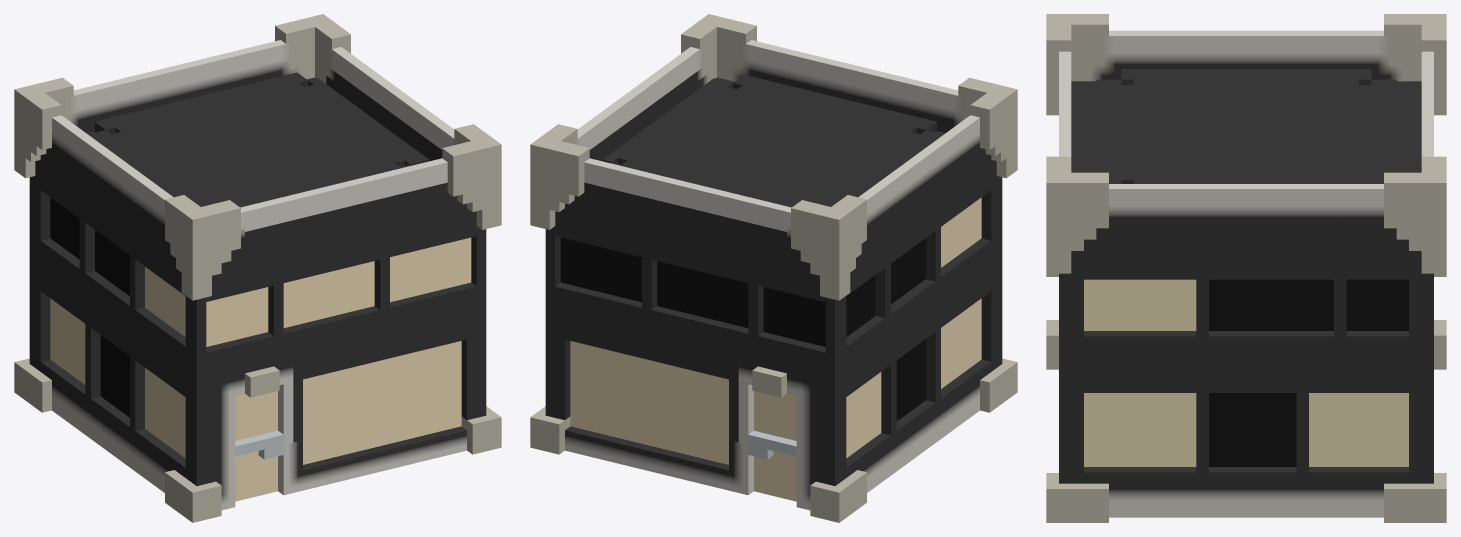
The model's file is Building3.dae.
3 views of the same model, side by side, from view 1: azimuth 30°, elevation 25°; view 2: azimuth 150°, elevation 25°; view 3: azimuth 270°, elevation 25° (orthographic). The views are drawn at different scales.
Visible parts, largest first — view 1: Building1; view 2: Building1; view 3: Building1.
Part boxes in pixels (x1,y1,x2,y2): Building1: (14, 14, 501, 522); Building1: (530, 14, 1017, 522); Building1: (1046, 14, 1446, 522).
Bounding box in the file's own units: 32 × 30 × 32.
